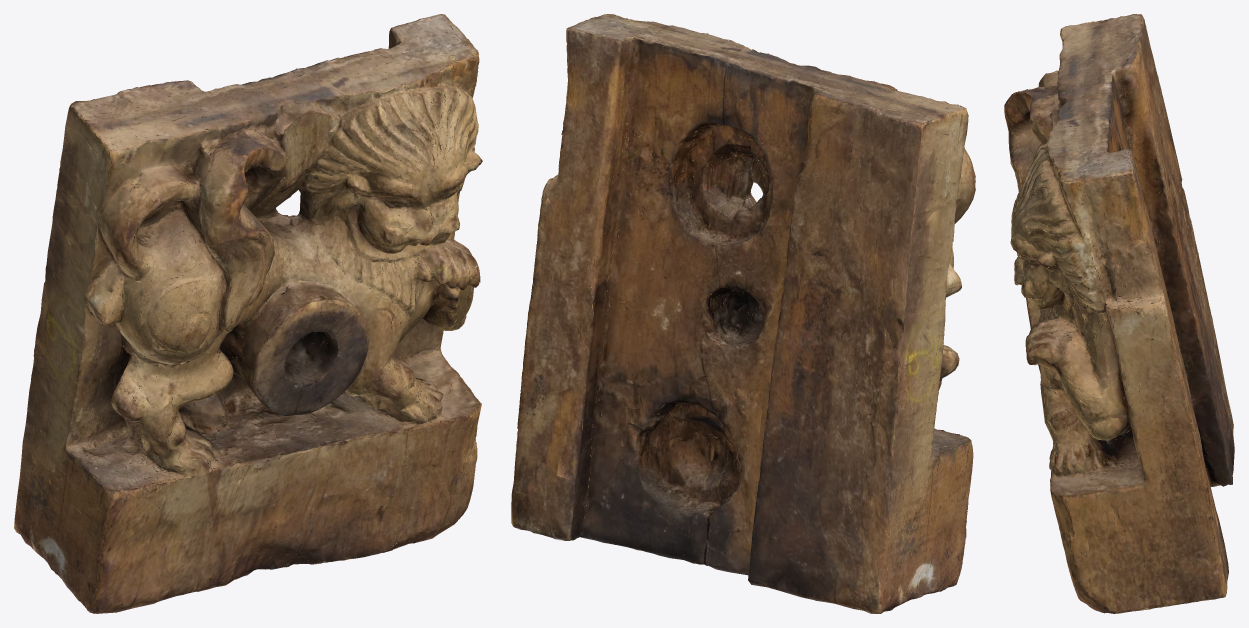
The model's file is lion.glb.
3 views of the same model, side by side, from view 1: azimuth 30°, elevation 25°; view 2: azimuth 150°, elevation 25°; view 3: azimuth 270°, elevation 25° (orthographic). The views are drawn at different scales.
Parts seen in each view (by area): view 1: Object_4; view 2: Object_4; view 3: Object_4.
Part boxes in pixels (<box>): Object_4: <box>14,14,482,613</box>; Object_4: <box>511,14,975,613</box>; Object_4: <box>1004,14,1234,613</box>.
Bounding box in the file's own units: 4.5 × 5.57 × 2.59.
Materials: 1 (1 with a texture image).
